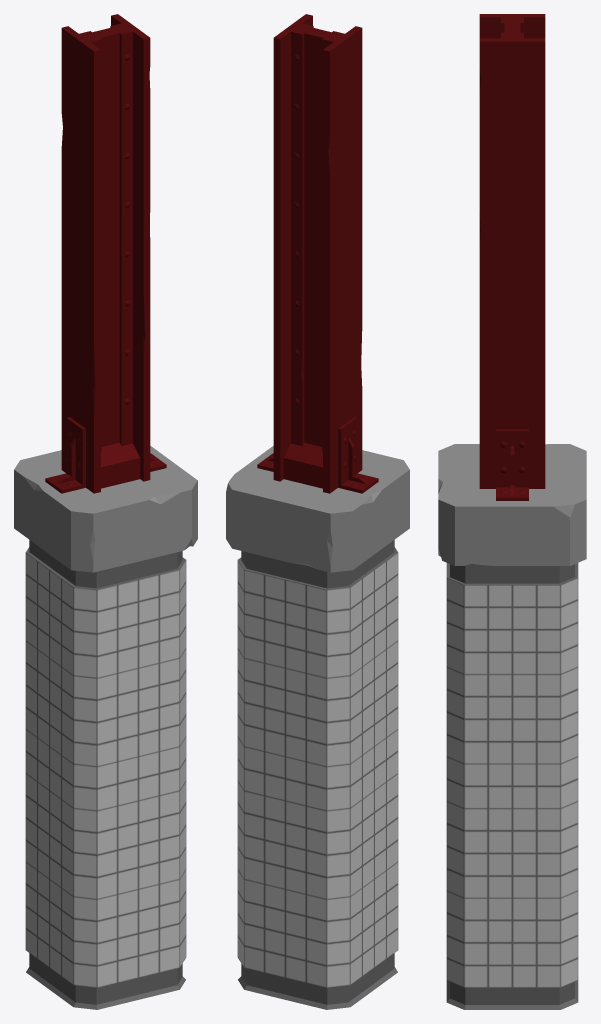
Rendered from SW_ENV_PillarTiled_Tall.fbx.
3 renders of one model, left to right at view 1: azimuth 30°, elevation 25°; view 2: azimuth 150°, elevation 25°; view 3: azimuth 270°, elevation 25°, orthographic.
Visible parts, largest first — view 1: SW_ENV_PillarTiled_Tall; view 2: SW_ENV_PillarTiled_Tall; view 3: SW_ENV_PillarTiled_Tall.
Boxes of the visible parts, x1,y1,x2,y2 form: SW_ENV_PillarTiled_Tall: (14, 14, 197, 1009); SW_ENV_PillarTiled_Tall: (226, 14, 409, 1009); SW_ENV_PillarTiled_Tall: (438, 14, 586, 1009).
Bounding box in the file's own units: 90 × 640 × 90.
